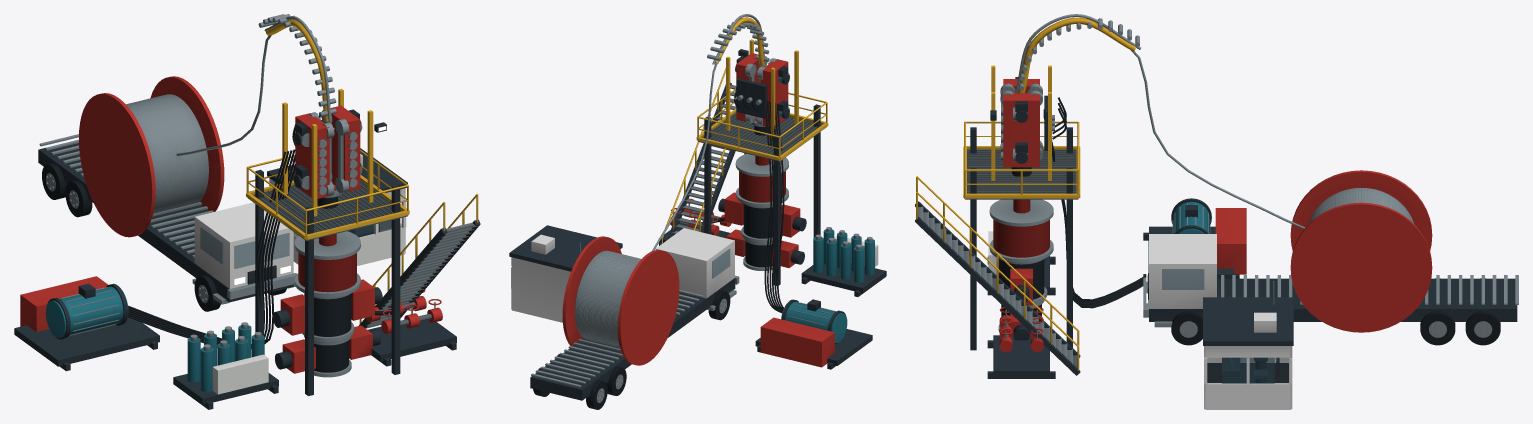
File: coiled_tubing_lodh.glb
3 renders of one model, left to right at view 1: azimuth 30°, elevation 25°; view 2: azimuth 150°, elevation 25°; view 3: azimuth 270°, elevation 25°, orthographic. The views are drawn at different scales.
Visible parts, largest first — view 1: reel_surface_red, reel_surface_steel, reel_trailer_surface_white, support_frame_surface_dark, power_pack_surface_dark, reel_trailer_surface_dark, hydraulic_hoses_surface_rubber, reel_trailer_surface_steel, support_frame_surface_yellow, injector_head_surface_red, accumulator_surface_blue, support_frame_surface_deck (+29 smaller); view 2: reel_surface_red, reel_surface_steel, reel_trailer_surface_white, reel_trailer_surface_dark, control_cabin_surface_white, support_frame_surface_dark, power_pack_surface_red, reel_trailer_surface_steel, accumulator_surface_blue, control_cabin_surface_dark, support_frame_surface_yellow, hydraulic_hoses_surface_rubber (+25 smaller); view 3: reel_surface_red, control_cabin_surface_dark, reel_trailer_surface_dark, reel_trailer_surface_white, control_cabin_surface_white, reel_trailer_surface_steel, support_frame_surface_dark, support_frame_surface_deck, support_frame_surface_steel, injector_head_surface_red, reel_trailer_surface_rubber, stairs_surface_dark (+21 smaller).
Part boxes in pixels (x1=…): reel_surface_red: x1=79, y1=76, x2=224, y2=237; reel_surface_steel: x1=126, y1=94, x2=208, y2=213; reel_trailer_surface_white: x1=194, y1=202, x2=293, y2=288; support_frame_surface_dark: x1=255, y1=169, x2=400, y2=395; power_pack_surface_dark: x1=14, y1=283, x2=159, y2=371; reel_trailer_surface_dark: x1=38, y1=143, x2=293, y2=302; hydraulic_hoses_surface_rubber: x1=128, y1=149, x2=295, y2=348; reel_trailer_surface_steel: x1=39, y1=134, x2=296, y2=304; support_frame_surface_yellow: x1=246, y1=150, x2=409, y2=240; injector_head_surface_red: x1=295, y1=105, x2=360, y2=198; accumulator_surface_blue: x1=187, y1=325, x2=264, y2=392; support_frame_surface_deck: x1=248, y1=181, x2=407, y2=240; reel_surface_red: x1=562, y1=236, x2=679, y2=365; reel_surface_steel: x1=575, y1=250, x2=641, y2=347; reel_trailer_surface_white: x1=655, y1=228, x2=734, y2=298; reel_trailer_surface_dark: x1=530, y1=278, x2=735, y2=400; control_cabin_surface_white: x1=511, y1=234, x2=620, y2=322; support_frame_surface_dark: x1=704, y1=104, x2=820, y2=285; power_pack_surface_red: x1=760, y1=317, x2=834, y2=367; reel_trailer_surface_steel: x1=531, y1=275, x2=739, y2=402; accumulator_surface_blue: x1=813, y1=229, x2=874, y2=282; control_cabin_surface_dark: x1=509, y1=225, x2=622, y2=271; support_frame_surface_yellow: x1=696, y1=89, x2=828, y2=160; hydraulic_hoses_surface_rubber: x1=764, y1=101, x2=784, y2=313; reel_surface_red: x1=1290, y1=170, x2=1432, y2=332; control_cabin_surface_dark: x1=1203, y1=297, x2=1293, y2=382; reel_trailer_surface_dark: x1=1147, y1=275, x2=1517, y2=321; reel_trailer_surface_white: x1=1149, y1=234, x2=1216, y2=308; control_cabin_surface_white: x1=1204, y1=312, x2=1292, y2=409; reel_trailer_surface_steel: x1=1143, y1=275, x2=1518, y2=337; support_frame_surface_dark: x1=970, y1=127, x2=1072, y2=350; support_frame_surface_deck: x1=965, y1=150, x2=1078, y2=199; support_frame_surface_steel: x1=967, y1=149, x2=1076, y2=193; injector_head_surface_red: x1=1003, y1=79, x2=1039, y2=167; reel_trailer_surface_rubber: x1=1171, y1=278, x2=1500, y2=345; stairs_surface_dark: x1=915, y1=201, x2=1080, y2=375.
Size of the model in its own units: 14.85 by 12.39 by 21.33.
